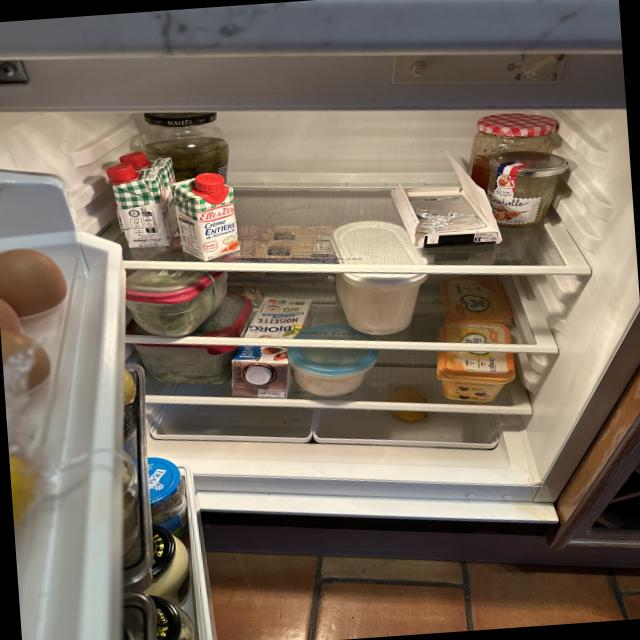Lechuga/Endivia: (129, 268, 227, 336), (147, 340, 223, 385)
Limón: (384, 386, 428, 424)
Mantequilla: (437, 317, 512, 407), (438, 272, 514, 331)
oat_milk: (224, 296, 318, 398)
